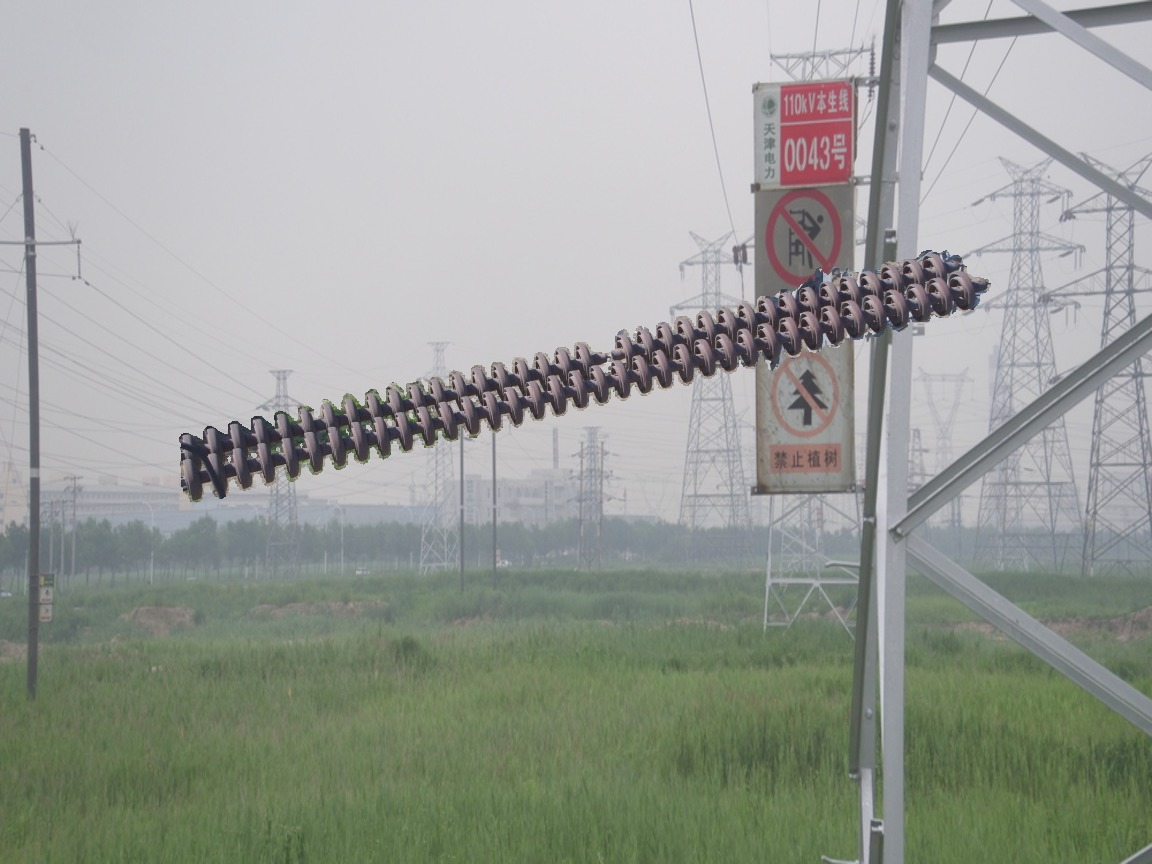defect: (571, 327, 636, 372)
